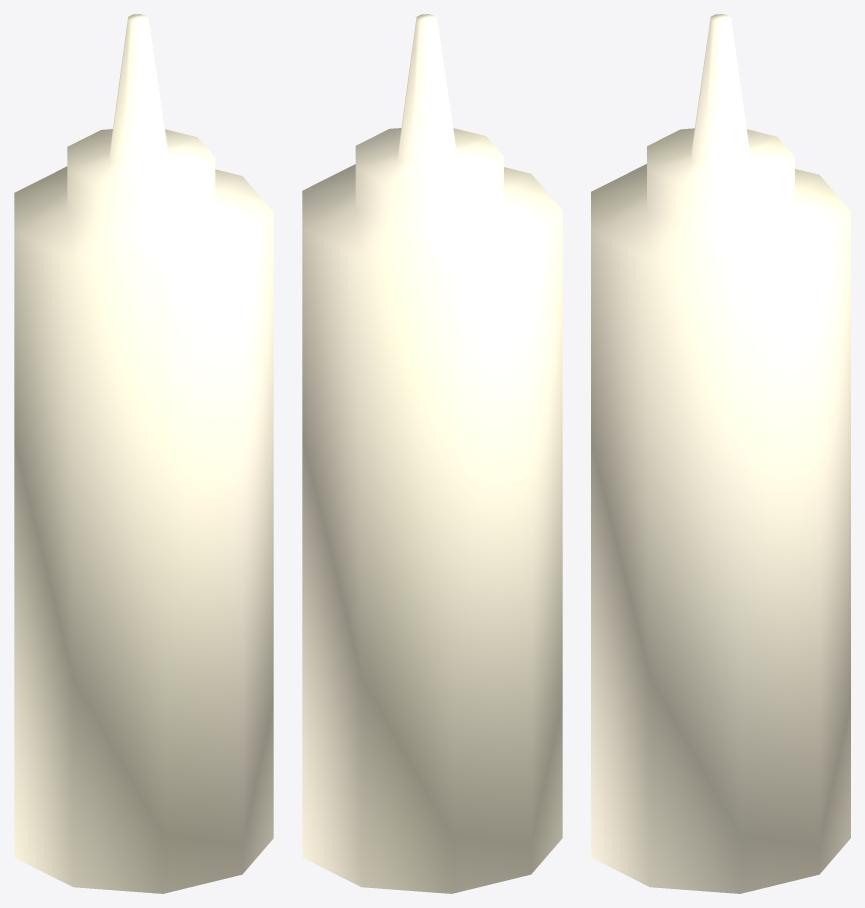
File: SqueezeBottleMayo.glb
3 renders of one model, left to right at view 1: azimuth 30°, elevation 25°; view 2: azimuth 150°, elevation 25°; view 3: azimuth 270°, elevation 25°, orthographic.
Visible parts, largest first — view 1: SqueezeBottleMayo; view 2: SqueezeBottleMayo; view 3: SqueezeBottleMayo.
Boxes of the visible parts, <box> form: SqueezeBottleMayo: <box>14,14,273,893</box>; SqueezeBottleMayo: <box>302,14,562,893</box>; SqueezeBottleMayo: <box>591,14,850,893</box>.
Bounding box in the file's own units: 0.0985 × 0.3435 × 0.097.
1 material, 1 textured.
